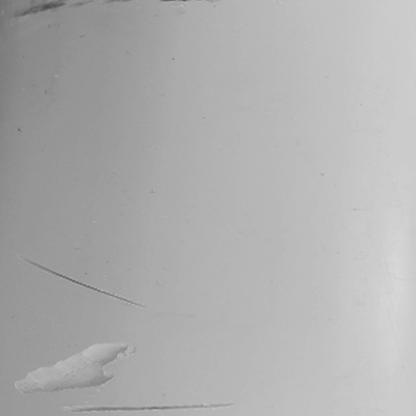sunshang: (20, 257, 146, 311), (13, 346, 133, 396), (66, 402, 240, 416)
